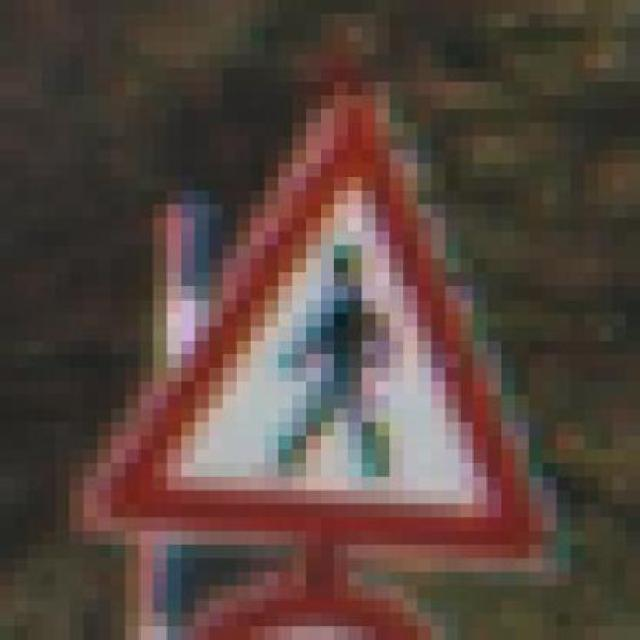Pedestrian Crossing: (92, 68, 566, 572)
